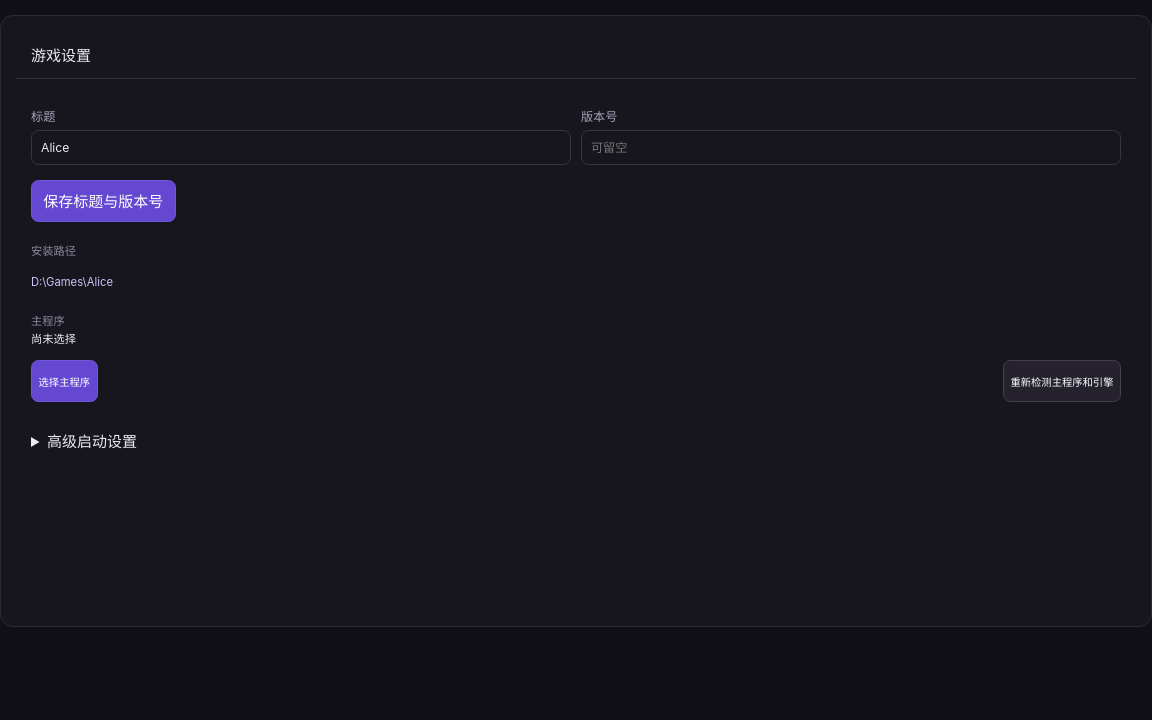
Test: GameSettingsPanel › rejects an invalid completed task result
Click the button with test id "reanalyze-game": click(1062, 381) [1003,360,1121,402]
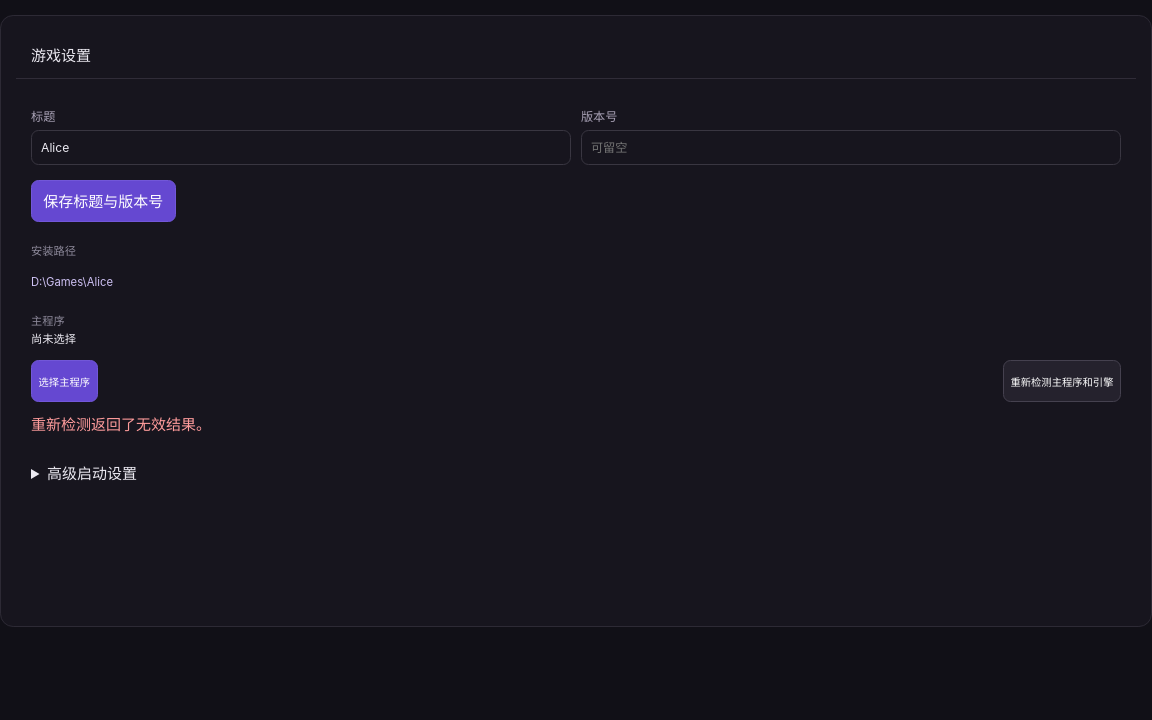
Check: the message with test id "reanalysis-error" shows "无效结果", box [31,415,211,434]
